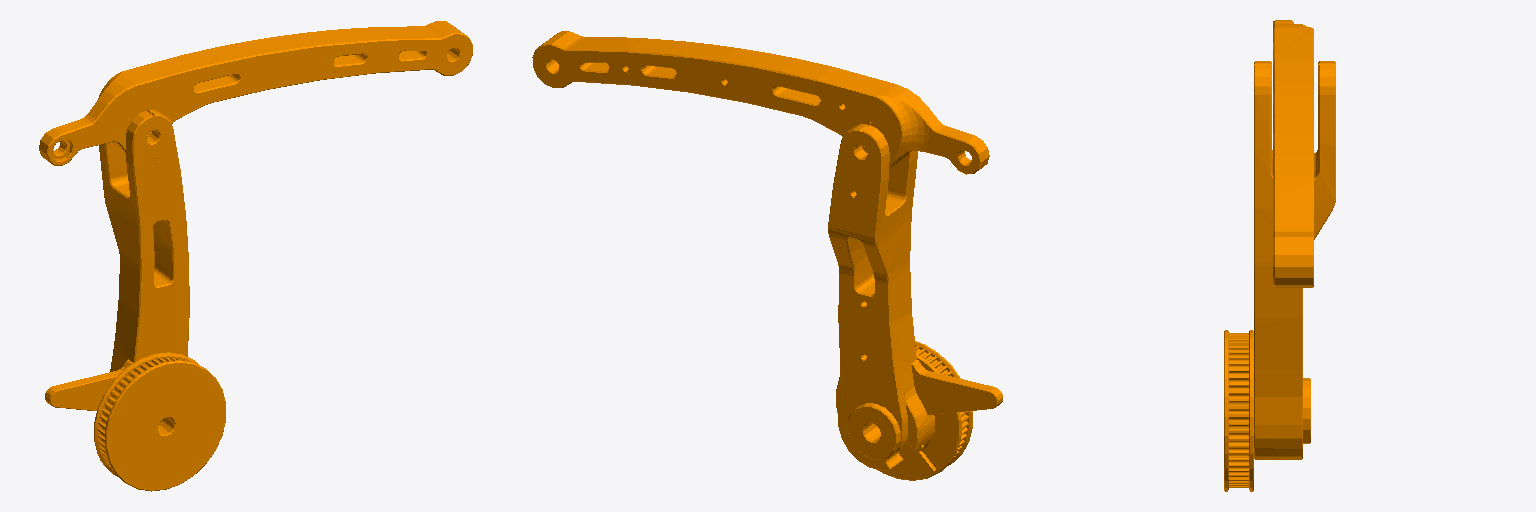
The robot description file, URDF, robot "three_axis_robot":
<?xml version="1.0"?>
<robot name="three_axis_robot">

  <!-- base -->
  <link name="base_link">
    <!-- <visual>
      <origin xyz="0 0 0" rpy="1.5708 0 0"/>
      <geometry>
        <mesh filename="meshes/base_link_modified.stl" scale="0.001 0.001 0.001"/>
      </geometry>

    <material name="grey_material">
      <color rgba="0.3 0.3 0.3 1.0"/>
    </material>
    </visual> -->
  </link>

  <!-- joint1: base_link -> link1 -->
  <joint name="joint1" type="revolute">
    <parent link="base_link"/>
    <child link="link1"/>
    <origin xyz="0 0 0.065" rpy="1.5708 0 0"/>
    <axis xyz="0 1 0"/>
    <limit lower="-2.0944" upper="2.4435" effort="1" velocity="3.49"/>
  </joint>

  <link name="link1">
    <!-- <visual>
      <geometry>
        <mesh filename="meshes/Link1_modified.stl" scale="0.001 0.001 0.001"/>
      </geometry>

    <material name="dark_grey_material">
      <color rgba="0.1 0.1 0.1 1.0"/>
    </material>
    </visual> -->
  </link>

  <!-- joint2: link1 -> link2 -->
  <joint name="joint2" type="revolute">
    <parent link="link1"/>
    <child link="link2"/>
    <origin xyz="0.045 0.08 0" rpy="0 0 0"/>
    <axis xyz="0 0 1"/>
    <limit lower="-0.5759" upper="0.9948" effort="1" velocity="3.49"/>
  </joint>

  <link name="link2">
    <visual>
      <geometry>
        <mesh filename="meshes/Link2_modified.stl" scale="0.001 0.001 0.001"/>
      </geometry>
    <material name="Orange">
      <color rgba="1.0 0.6 0.0 1.0"/>
    </material>
    </visual>
  </link>

  <!-- joint3: link2 -> link3 -->
  <joint name="joint3" type="revolute">
    <parent link="link2"/>
    <child link="link3"/>
    <origin xyz="0 0.13 0.008" rpy="1.5708 3.1416 0"/>
    <axis xyz="0 1 0"/>
    <limit lower="-0.2443" upper="0.9948" effort="1" velocity="3.49"/>
  </joint>

  <link name="link3">
    <visual>
      <origin xyz="-0.15 0 0" rpy="0 0 0"/>
      <geometry>
        <mesh filename="meshes/Link3_modified.stl" scale="0.001 0.001 0.001"/>
      </geometry>
    <material name="Orange">
      <color rgba="1.0 0.6 0.0 1.0"/>
    </material>
    </visual>
  </link>

  <!-- fixed joint: link3 - link4 -->
  <joint name="joint4" type="fixed">
    <parent link="link3"/>
    <child link="link4"/>
    <origin xyz="-0.15 0.008 0" rpy="-1.5708 0 -1.5708"/>
  </joint>

  <link name="link4">
    <!-- <visual>
      <geometry>
        <mesh filename="meshes/Link4_modified.stl" scale="0.00001 0.00001 0.00001"/>
      </geometry>
    </visual> -->
  </link>
<link name="link2_mimic">

  <origin xyz="0 0 0" rpy="1.5708 0 0"/>
  <!-- <visual> -->
    <!-- <geometry> -->
    <!-- <box size="0.001 0.001 0.001"/> -->
      <!-- <mesh filename="/meshes/0001-01 L130_modified.stl" scale="0.001 0.001 0.001"/> -->
    <!-- </geometry> -->
  <!-- </visual> -->
</link>

<!-- mimic joint -->
<joint name="joint2_mimic" type="revolute">
  <parent link="link3"/>
  <child link="link2_mimic"/>
  <origin xyz="0.04 0 0" rpy=" 0 0 0"/> 
  <axis xyz="0 0 1"/>
  <mimic joint="joint3" multiplier="1.0" offset="0.0"/>
</joint>


</robot>

--- What the picture shows (computed from the rendered views, not written in the file) ---
The picture shows the robot from 3 angles, left to right: view 1: azimuth 30°, elevation 25°; view 2: azimuth 150°, elevation 25°; view 3: azimuth 270°, elevation 25°; orthographic projection.
Model three_axis_robot with 6 links and 5 joints (4 revolute, 1 fixed), rooted at base_link, posed every joint at zero.
Visible links, largest first — view 1: link2, link3; view 2: link2, link3; view 3: link2, link3.
Link boxes in pixels (<box>): link2: <box>45,110,225,491</box>; link3: <box>39,21,472,165</box>; link2: <box>828,124,1002,480</box>; link3: <box>532,31,989,174</box>; link2: <box>1224,61,1335,491</box>; link3: <box>1273,20,1313,287</box>.
Size in the robot's own frame: 0.2098 by 0.041 by 0.1828 metres.
2 mesh visuals loaded from 2 distinct referenced files (2 binary STL).